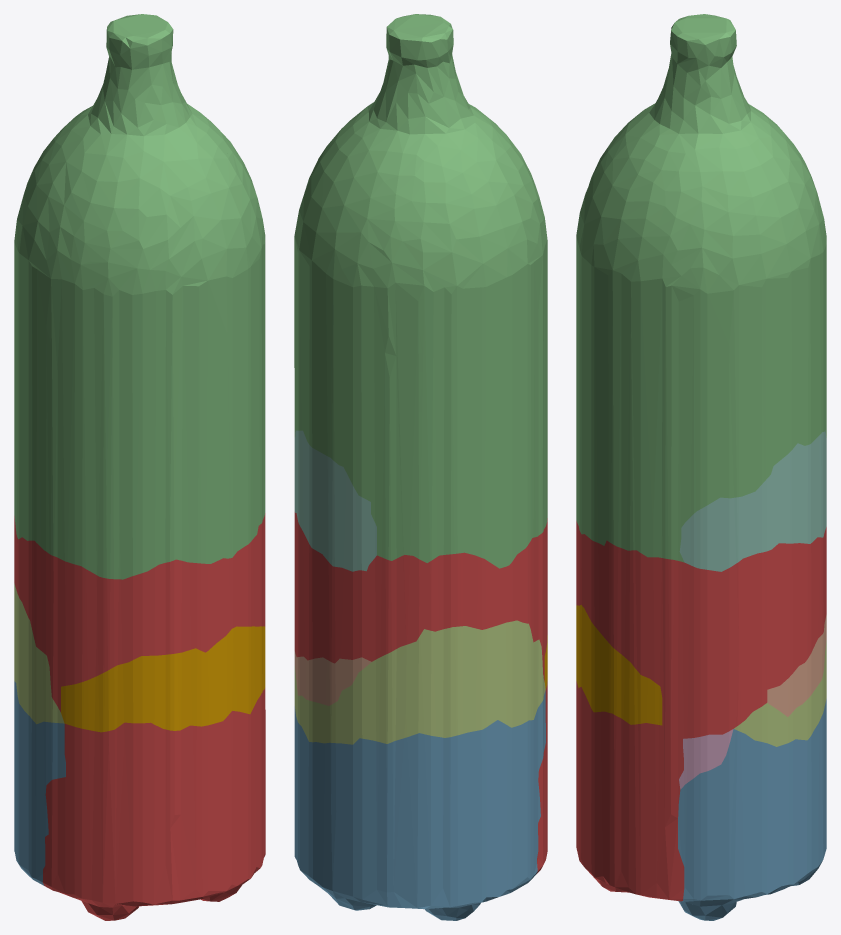
The model's file is fractured_14_8pcs.glb.
The picture shows the model from 3 angles, left to right: view 1: azimuth 30°, elevation 25°; view 2: azimuth 150°, elevation 25°; view 3: azimuth 270°, elevation 25°; orthographic projection.
Visible parts, largest first — view 1: piece_3.obj, piece_1.obj, piece_0.obj, piece_2.obj, piece_5.obj; view 2: piece_3.obj, piece_2.obj, piece_1.obj, piece_5.obj, piece_4.obj, piece_7.obj; view 3: piece_3.obj, piece_1.obj, piece_2.obj, piece_4.obj, piece_0.obj, piece_5.obj, piece_7.obj, piece_6.obj.
Part boxes in pixels (x1=…): piece_3.obj: x1=14, y1=14, x2=265, y2=579; piece_1.obj: x1=14, y1=513, x2=265, y2=920; piece_0.obj: x1=61, y1=626, x2=265, y2=732; piece_2.obj: x1=14, y1=681, x2=65, y2=885; piece_5.obj: x1=14, y1=583, x2=64, y2=724; piece_3.obj: x1=294, y1=14, x2=547, y2=568; piece_2.obj: x1=294, y1=691, x2=545, y2=920; piece_1.obj: x1=294, y1=512, x2=547, y2=874; piece_5.obj: x1=294, y1=620, x2=545, y2=744; piece_4.obj: x1=294, y1=430, x2=376, y2=571; piece_7.obj: x1=294, y1=651, x2=371, y2=705; piece_3.obj: x1=576, y1=14, x2=826, y2=562; piece_1.obj: x1=576, y1=521, x2=826, y2=901; piece_2.obj: x1=678, y1=699, x2=826, y2=920; piece_4.obj: x1=679, y1=430, x2=826, y2=571; piece_0.obj: x1=576, y1=605, x2=662, y2=725; piece_5.obj: x1=734, y1=640, x2=826, y2=746; piece_7.obj: x1=767, y1=615, x2=826, y2=716; piece_6.obj: x1=679, y1=729, x2=733, y2=789.
Bounding box in the file's own units: 0.2653 × 1 × 0.2653.
